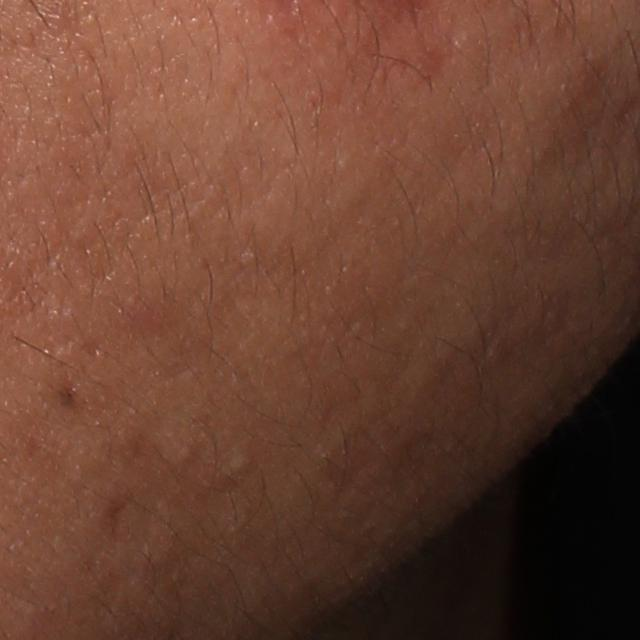comedo: (228, 447, 248, 474)
nevus: (55, 382, 82, 410)
